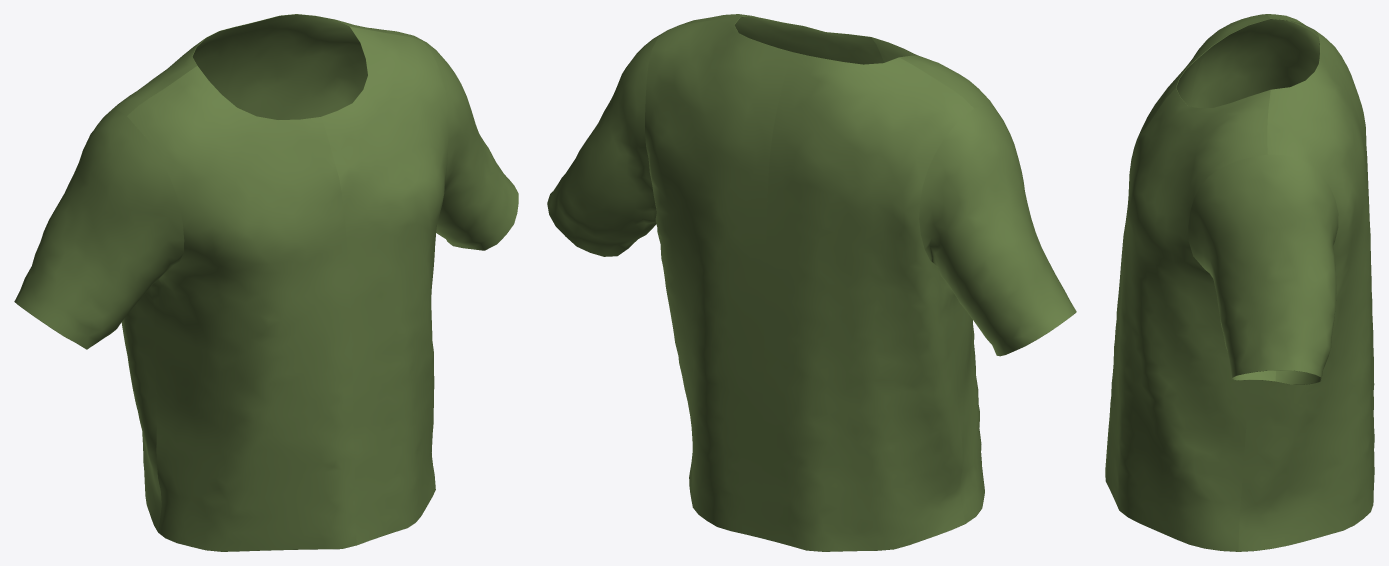
Rendered from tshirtMale.glb.
3 views of the same model, side by side, from view 1: azimuth 30°, elevation 25°; view 2: azimuth 150°, elevation 25°; view 3: azimuth 270°, elevation 25° (orthographic). The views are drawn at different scales.
Visible parts, largest first — view 1: tshirtMale; view 2: tshirtMale; view 3: tshirtMale.
Part boxes in pixels (<box>): tshirtMale: <box>14,14,518,551</box>; tshirtMale: <box>547,14,1076,551</box>; tshirtMale: <box>1105,14,1374,551</box>.
Size of the model in its own units: 7.37 by 6.48 by 3.57.
Materials: 1 (1 with a texture image).
